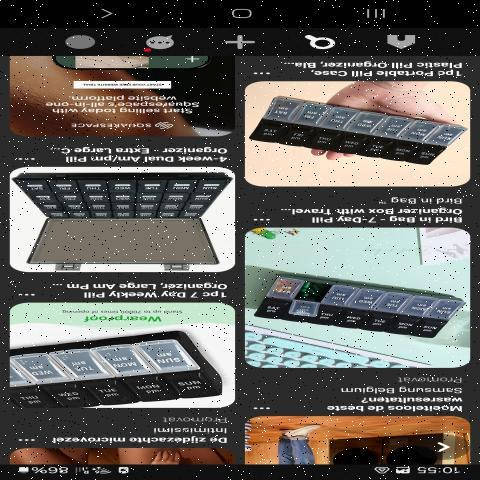PillBox: (12, 164, 223, 273), (251, 247, 465, 354), (5, 319, 227, 419), (243, 87, 468, 183)
